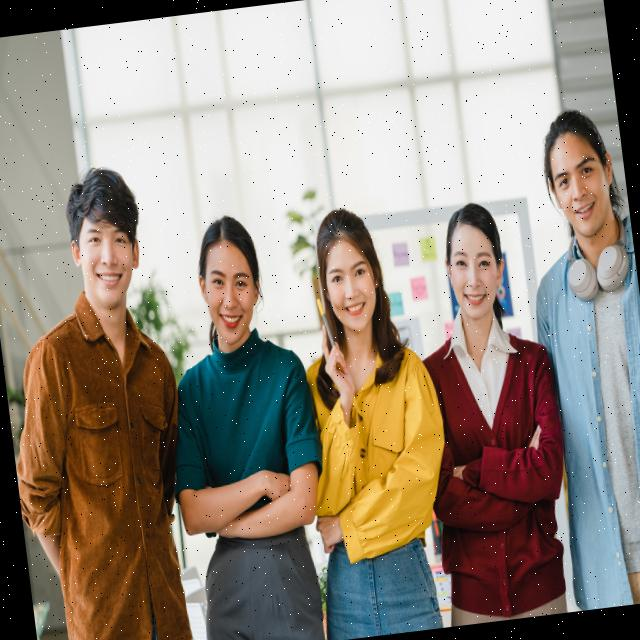Person: (0, 162, 209, 640), (140, 207, 345, 640), (274, 197, 467, 640), (398, 194, 582, 626), (510, 102, 640, 611)
